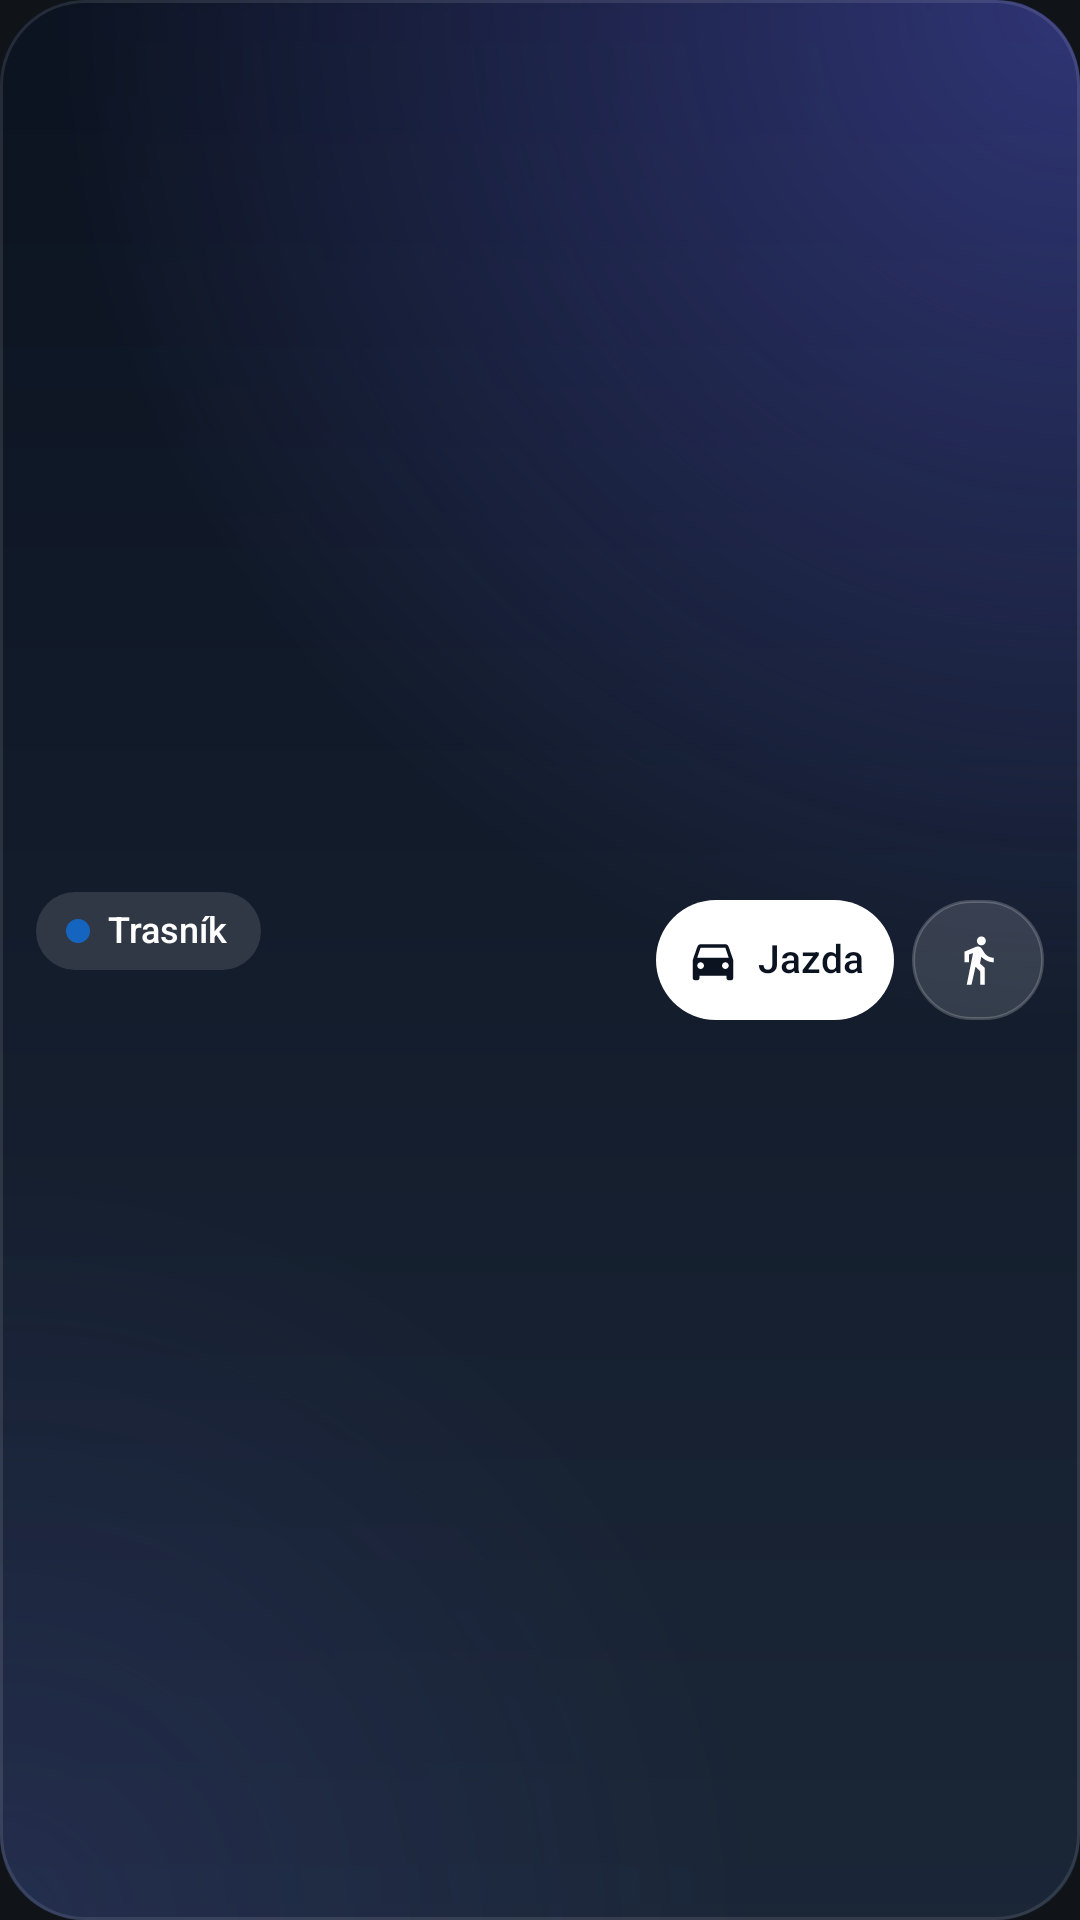

Where icons sit on this 1080px×1920px app screen, as (x1, y1, x2, y2):
car: (692, 944, 734, 981)
walk: (964, 936, 994, 985)
